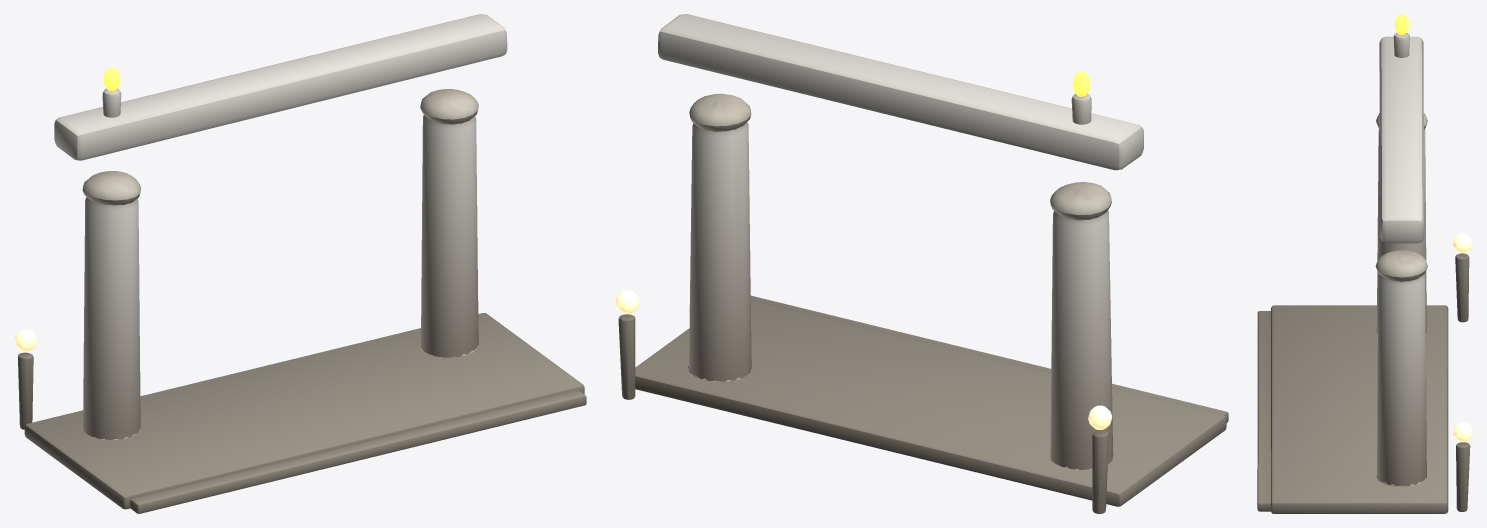
3 views of the same model, side by side, from view 1: azimuth 30°, elevation 25°; view 2: azimuth 150°, elevation 25°; view 3: azimuth 270°, elevation 25° (orthographic). The views are drawn at different scales.
Visible parts, largest first — view 1: gate_df2feee1; view 2: gate_df2feee1; view 3: gate_df2feee1.
Boxes of the visible parts, x1,y1,x2,y2 form: gate_df2feee1: [14, 14, 586, 513]; gate_df2feee1: [615, 14, 1228, 513]; gate_df2feee1: [1257, 14, 1472, 513].
Bounding box in the file's own units: 5.57 × 4.31 × 2.55.
